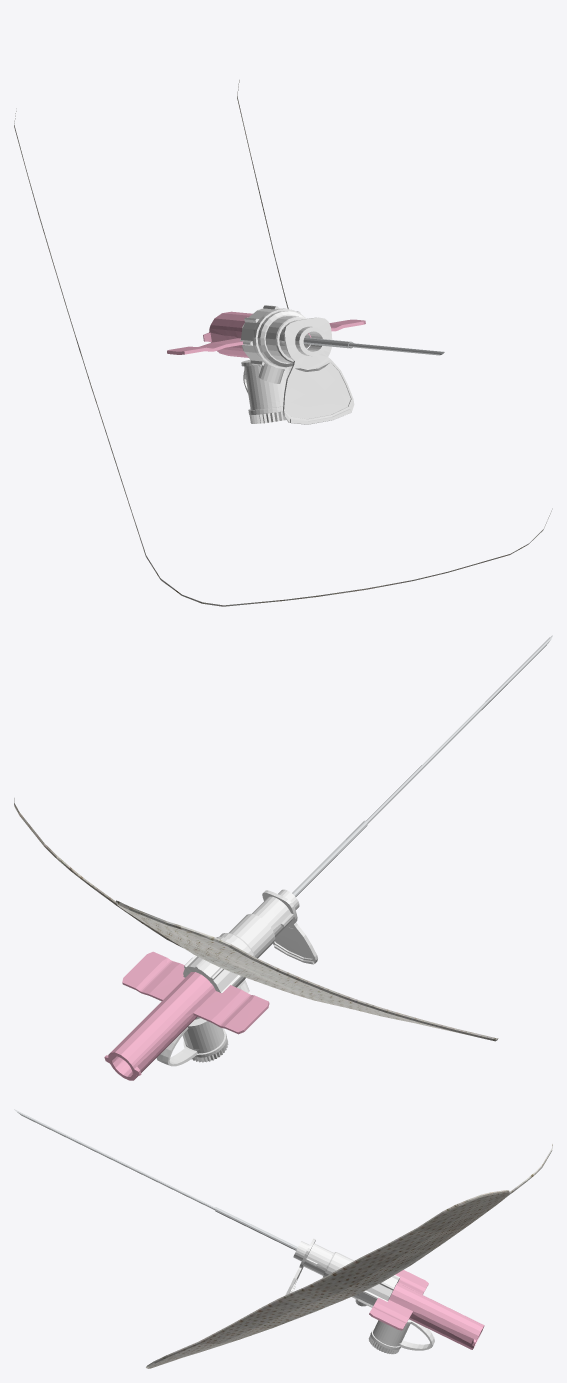
File: catheter.glb
3 views of the same model, one above another, from view 1: azimuth 30°, elevation 25°; view 2: azimuth 150°, elevation 25°; view 3: azimuth 270°, elevation 25° (orthographic). The views are drawn at different scales.
Visible parts, largest first — view 1: connecteur, corps, bouchon, pansement; view 2: corps, pansement, connecteur, bouchon, aiguille, aiguille2; view 3: pansement, corps, connecteur, bouchon, aiguille, aiguille2.
Boxes of the visible parts, x1,y1,x2,y2 form: connecteur: (240,305,354,424); corps: (167,311,365,357); bouchon: (241,360,291,423); pansement: (14,80,552,606); corps: (104,951,269,1080); pansement: (14,798,498,1041); connecteur: (183,889,317,993); bouchon: (156,1017,228,1066); aiguille: (366,635,552,823); aiguille2: (292,820,367,896); pansement: (146,1144,552,1368); corps: (369,1270,484,1349); connecteur: (285,1238,400,1307); bouchon: (368,1319,434,1354); aiguille: (14,1109,215,1209); aiguille2: (215,1207,297,1250).
Bounding box in the file's own units: 0.0385 × 0.0322 × 0.07.
5 materials, 1 textured.
